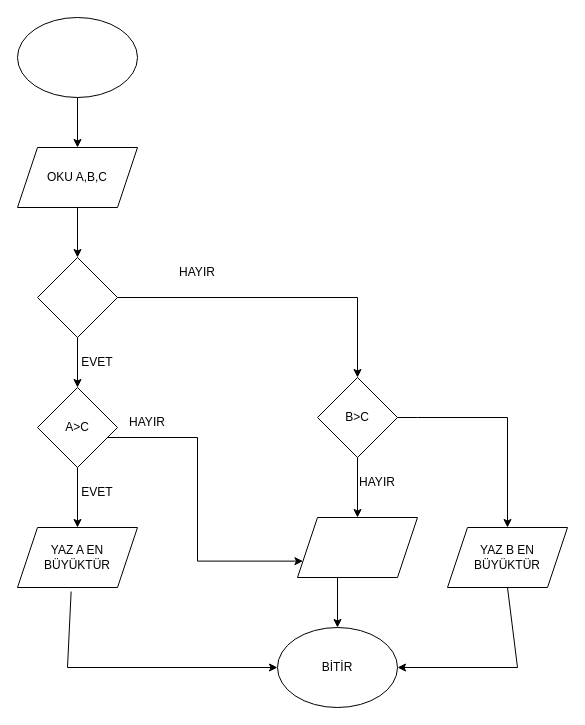
Some shapes in this 585 by 725 pixel diagram are drawn without their labels. Each missing label, with the centre of its shape:
"A>B" belongs at (x=77, y=297).
"BAŞLA" belongs at (x=77, y=57).
"YAZ C EN BÜYÜKTÜR" belongs at (x=357, y=547).
